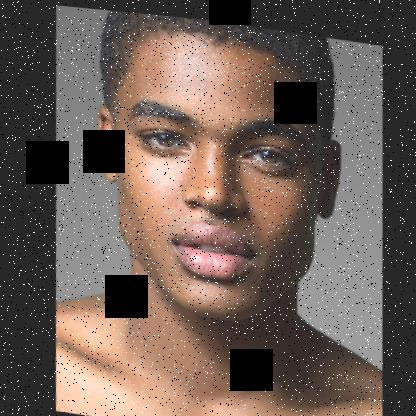Male: (80, 16, 348, 328)
